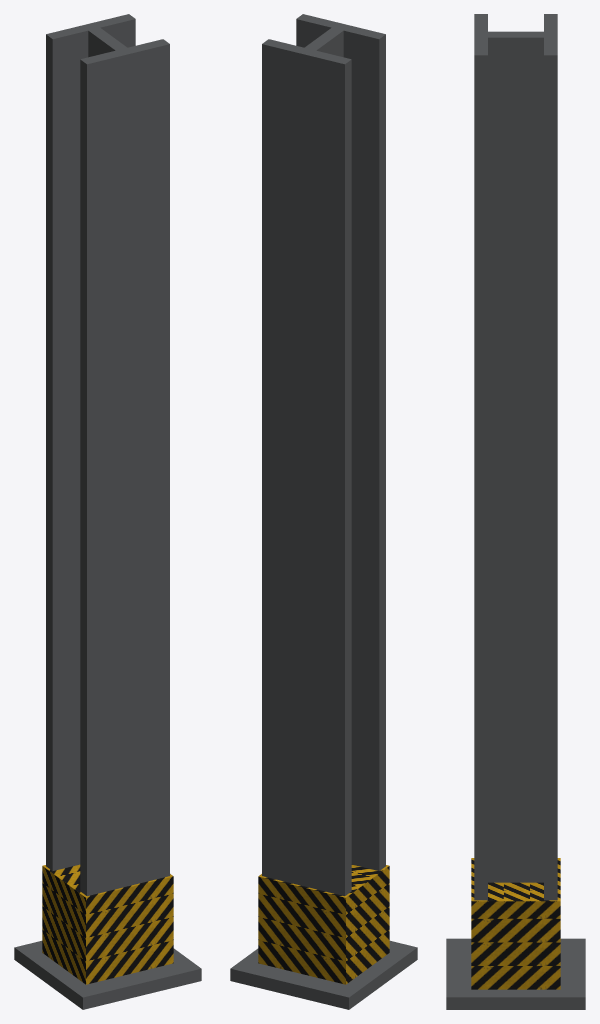
Rendered from pillar_h.fbx.
3 renders of one model, left to right at view 1: azimuth 30°, elevation 25°; view 2: azimuth 150°, elevation 25°; view 3: azimuth 270°, elevation 25°, orthographic.
Visible parts, largest first — view 1: pillar_h; view 2: pillar_h; view 3: pillar_h.
Part boxes in pixels (bbox=[...]): pillar_h: bbox=[14, 14, 201, 1009]; pillar_h: bbox=[230, 14, 417, 1009]; pillar_h: bbox=[446, 14, 585, 1009].
Size of the model in its own units: 2000 by 15000 by 2000.
